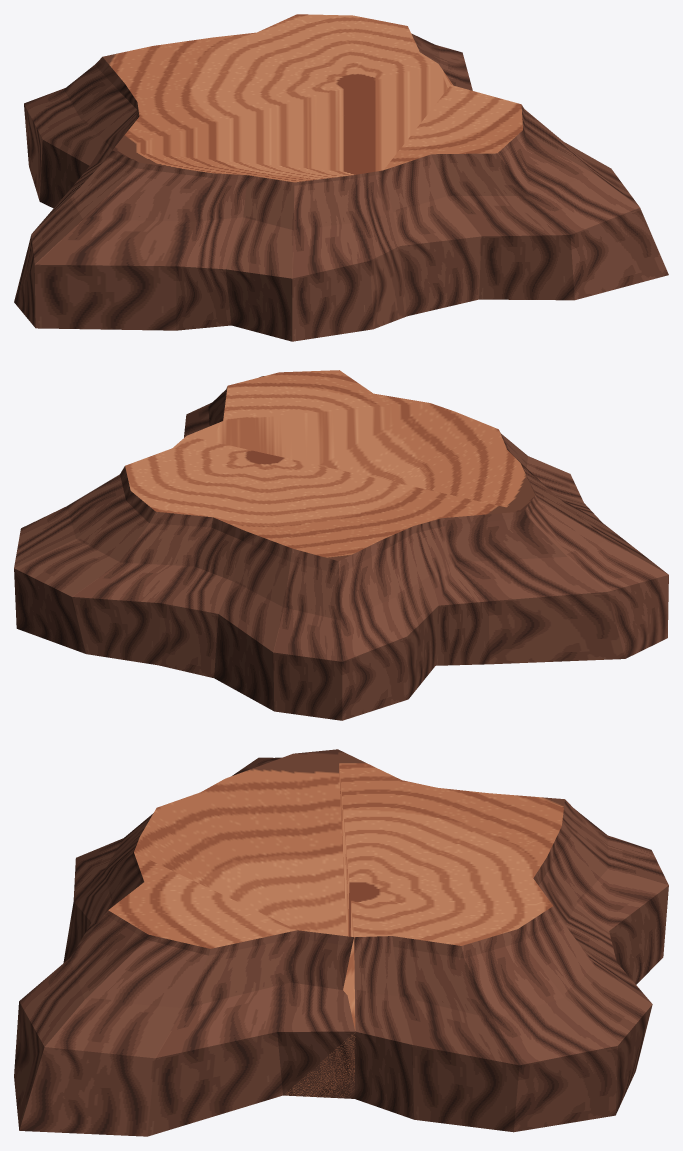
The model's file is environment_redwood1_stump_v2.fbx.
3 views of the same model, one above another, from view 1: azimuth 30°, elevation 25°; view 2: azimuth 150°, elevation 25°; view 3: azimuth 270°, elevation 25° (orthographic). The views are drawn at different scales.
Visible parts, largest first — view 1: environment_redwood1_stump_v2; view 2: environment_redwood1_stump_v2; view 3: environment_redwood1_stump_v2.
Boxes of the visible parts, x1,y1,x2,y2 form: environment_redwood1_stump_v2: (14, 14, 668, 341); environment_redwood1_stump_v2: (14, 370, 668, 720); environment_redwood1_stump_v2: (14, 749, 668, 1136).
Bounding box in the file's own units: 899 × 200 × 816.
